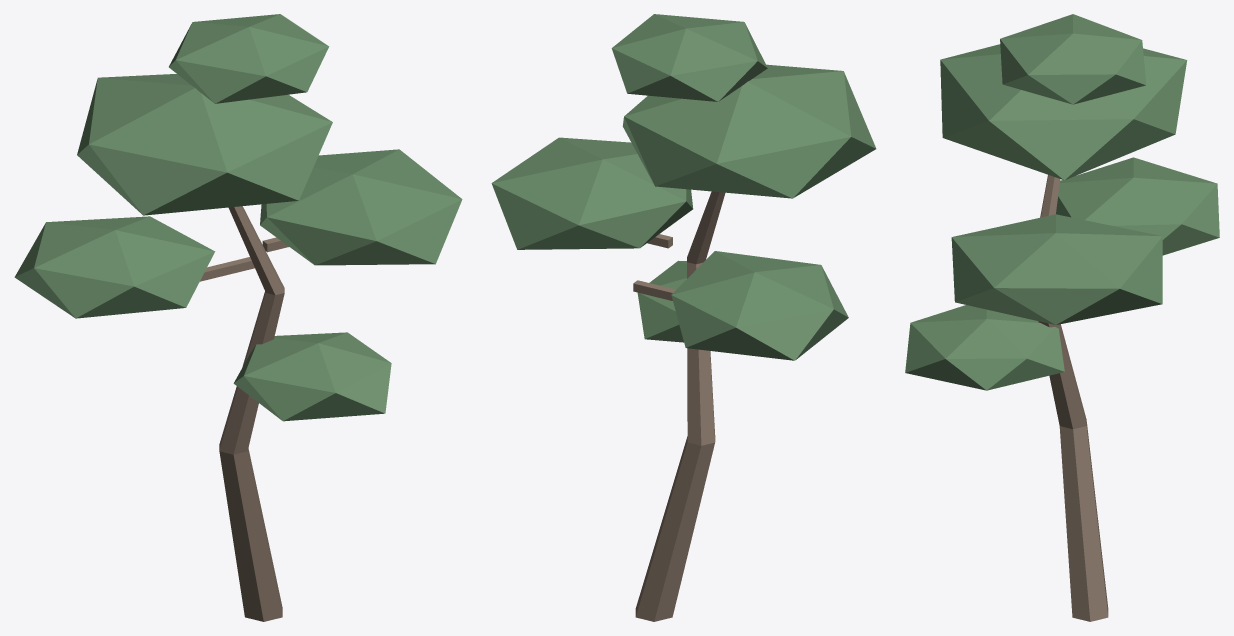
The model's file is HK_Tree_Pine.glb.
3 renders of one model, left to right at view 1: azimuth 30°, elevation 25°; view 2: azimuth 150°, elevation 25°; view 3: azimuth 270°, elevation 25°, orthographic. The views are drawn at different scales.
Visible parts, largest first — view 1: HK_Tree_Pine; view 2: HK_Tree_Pine; view 3: HK_Tree_Pine.
Boxes of the visible parts, x1,y1,x2,y2 form: HK_Tree_Pine: (14, 14, 462, 621); HK_Tree_Pine: (491, 14, 876, 621); HK_Tree_Pine: (905, 14, 1219, 621).
Bounding box in the file's own units: 4.6 × 7.26 × 3.64.
